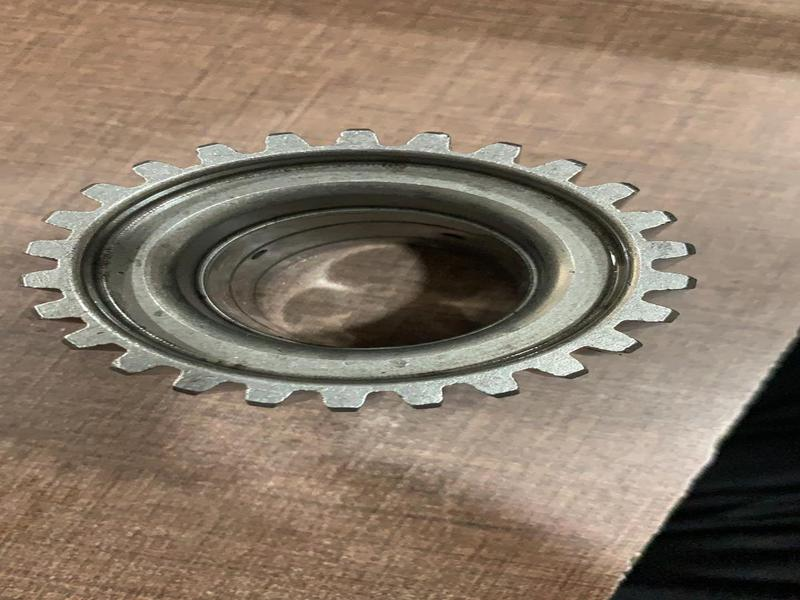engine gear ape: (31, 124, 702, 420)
